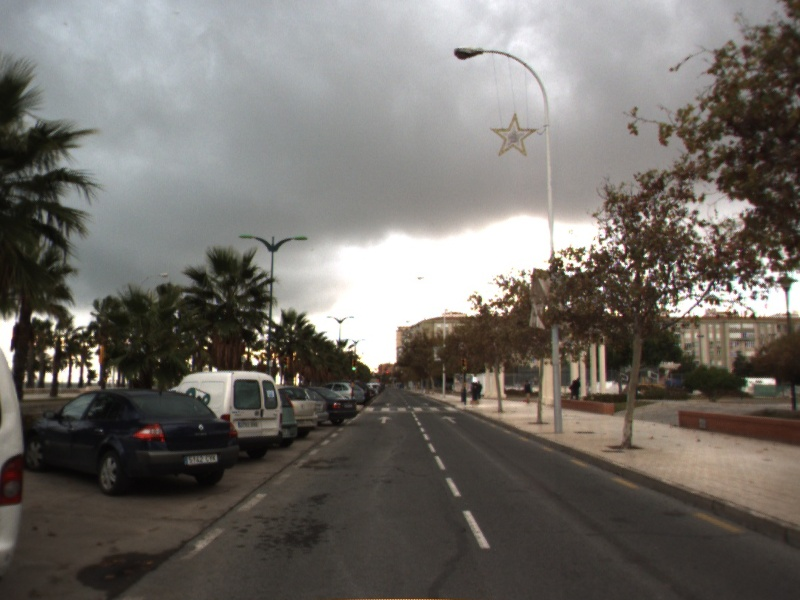STRAIGHT: (439, 414, 460, 425), (376, 414, 394, 425)
